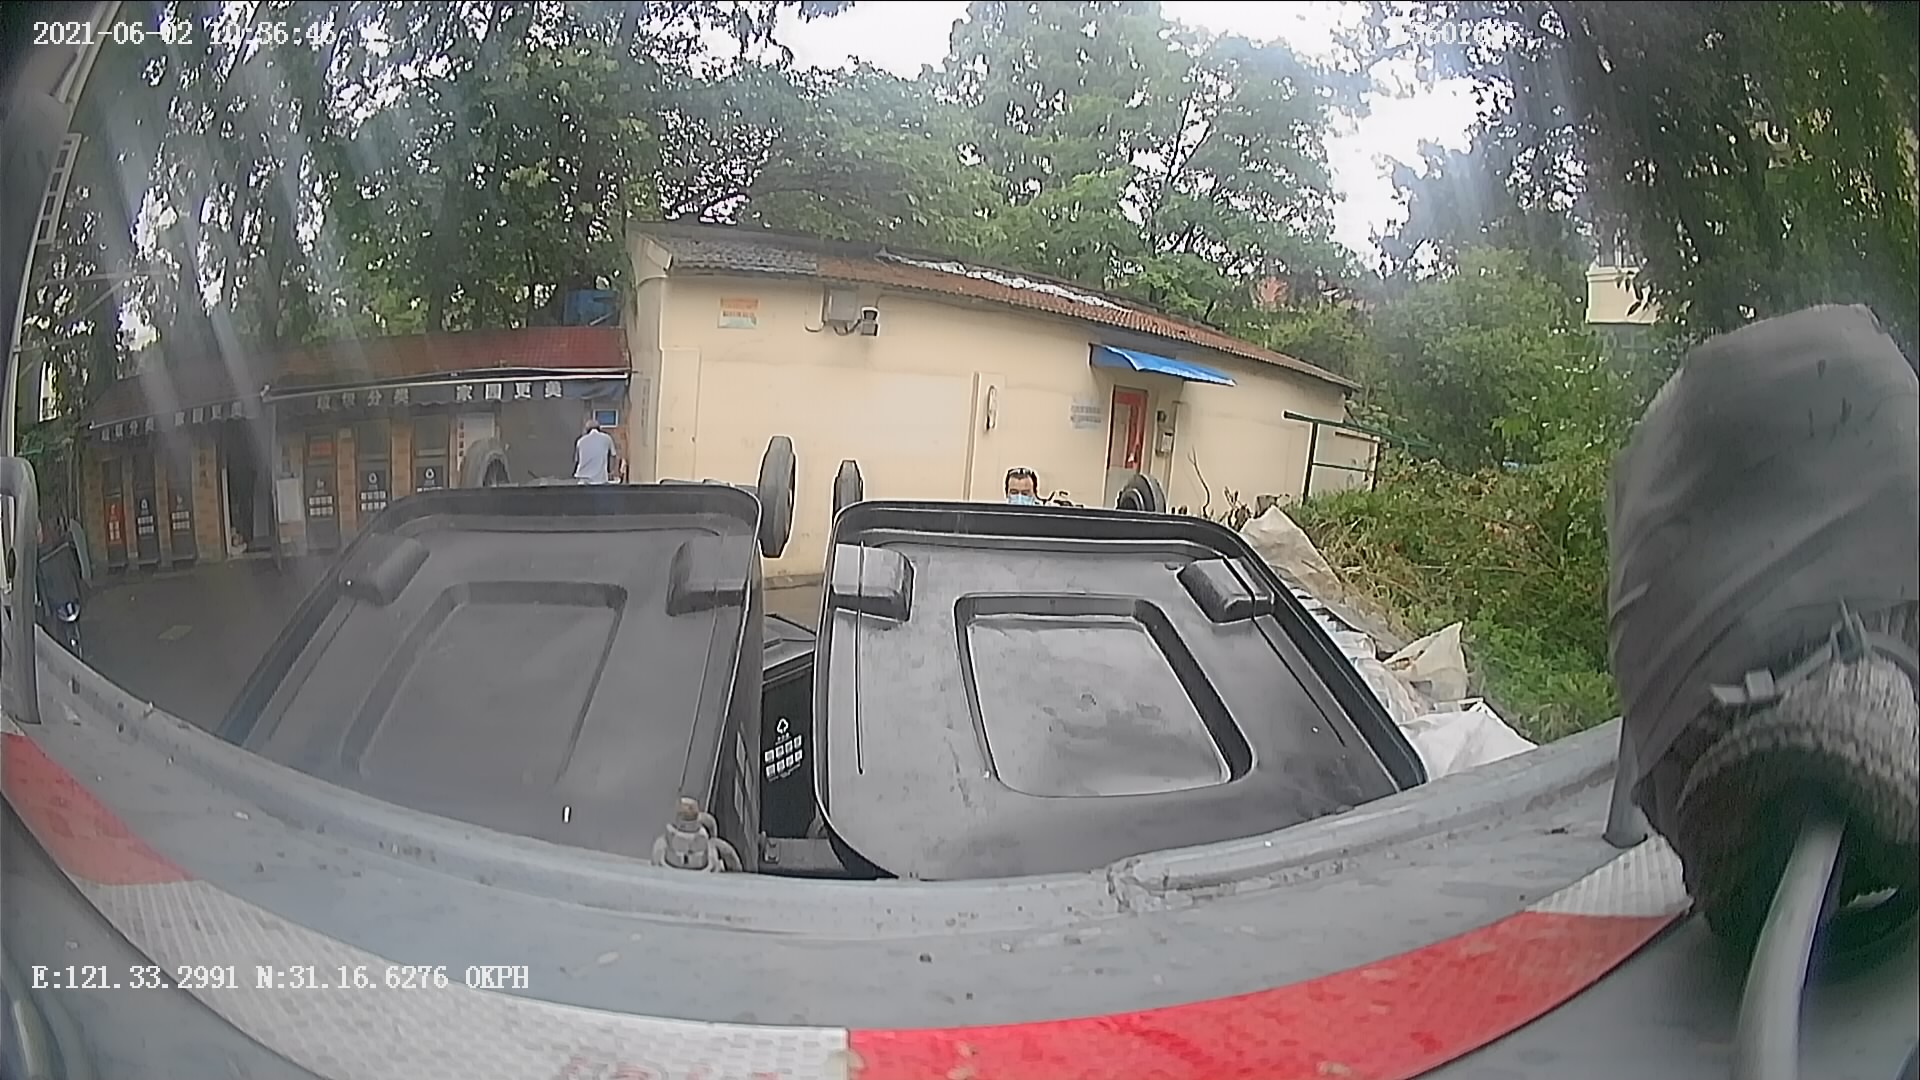Dry_garbage: (193, 418, 708, 1025), (786, 456, 1262, 1029)
